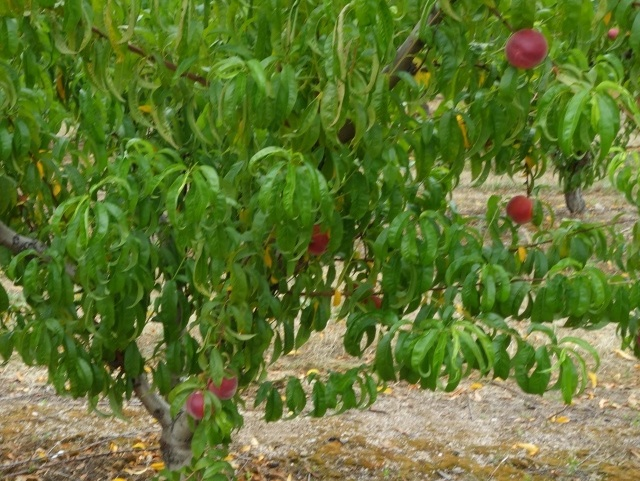peach: (501, 26, 554, 75), (305, 219, 334, 262), (503, 193, 537, 229), (204, 368, 240, 402), (184, 387, 212, 420)
